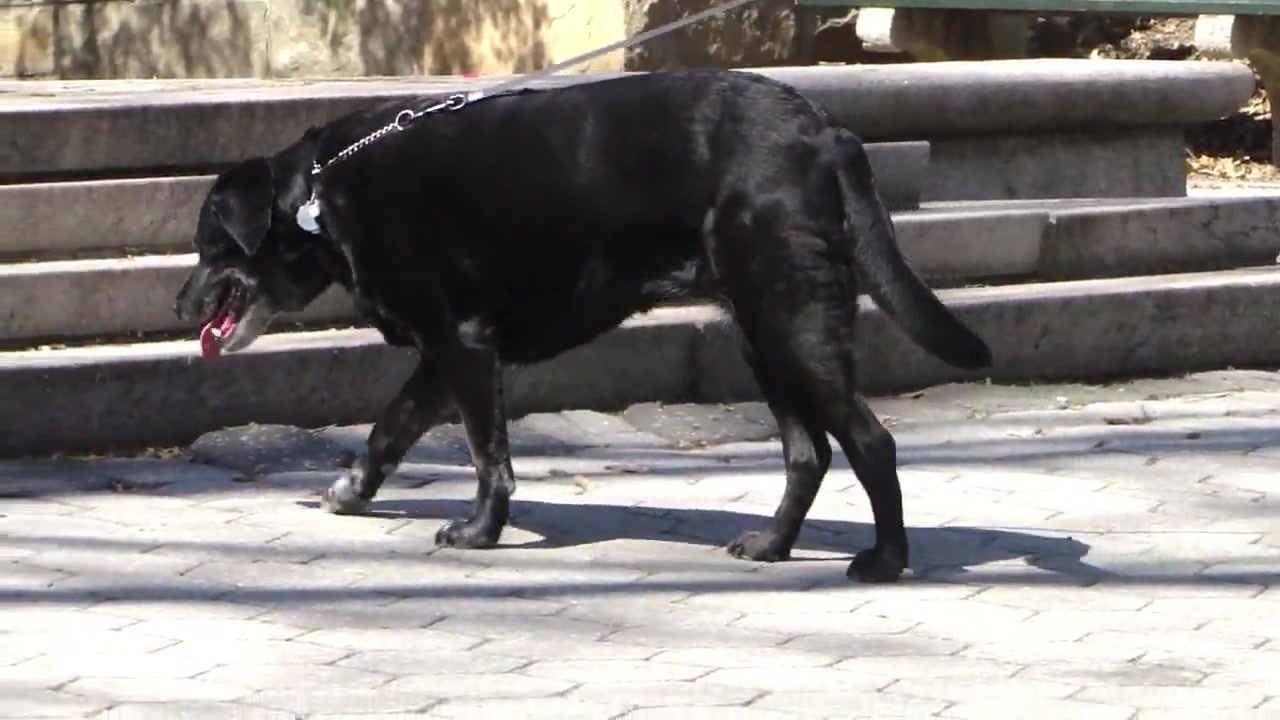dog: (174, 64, 997, 586)
